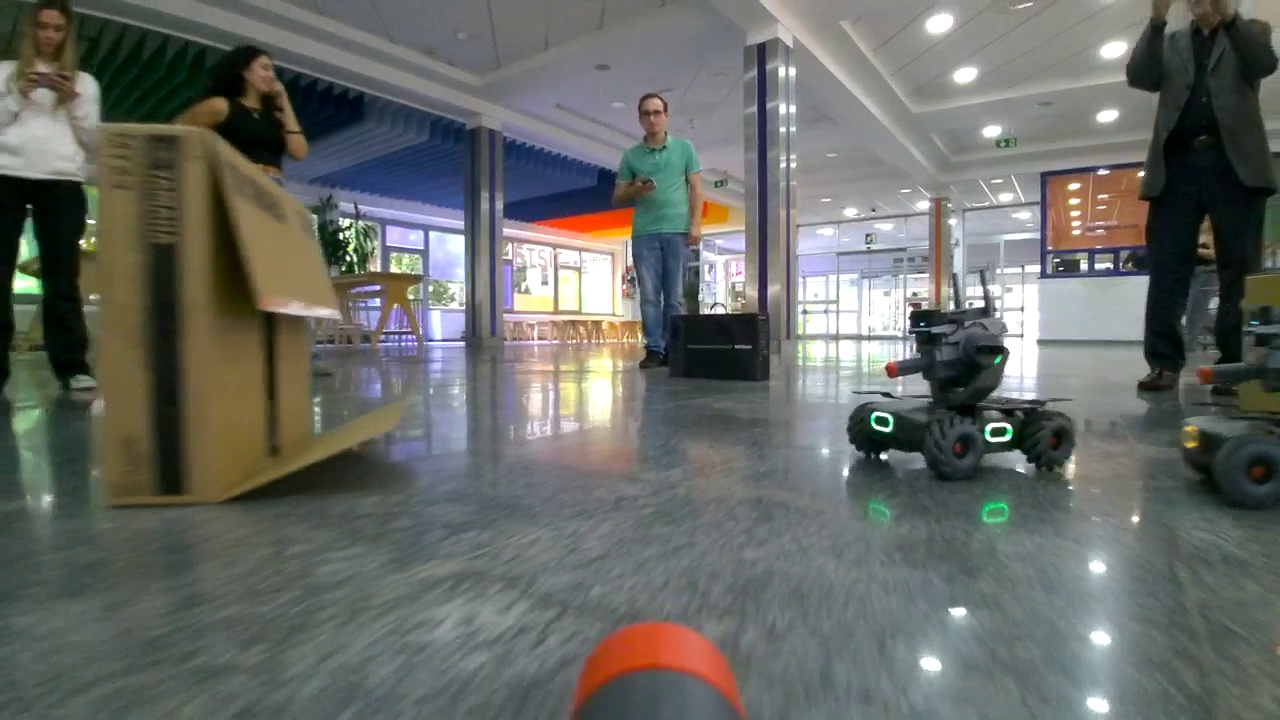robot: (844, 306, 1076, 483)
